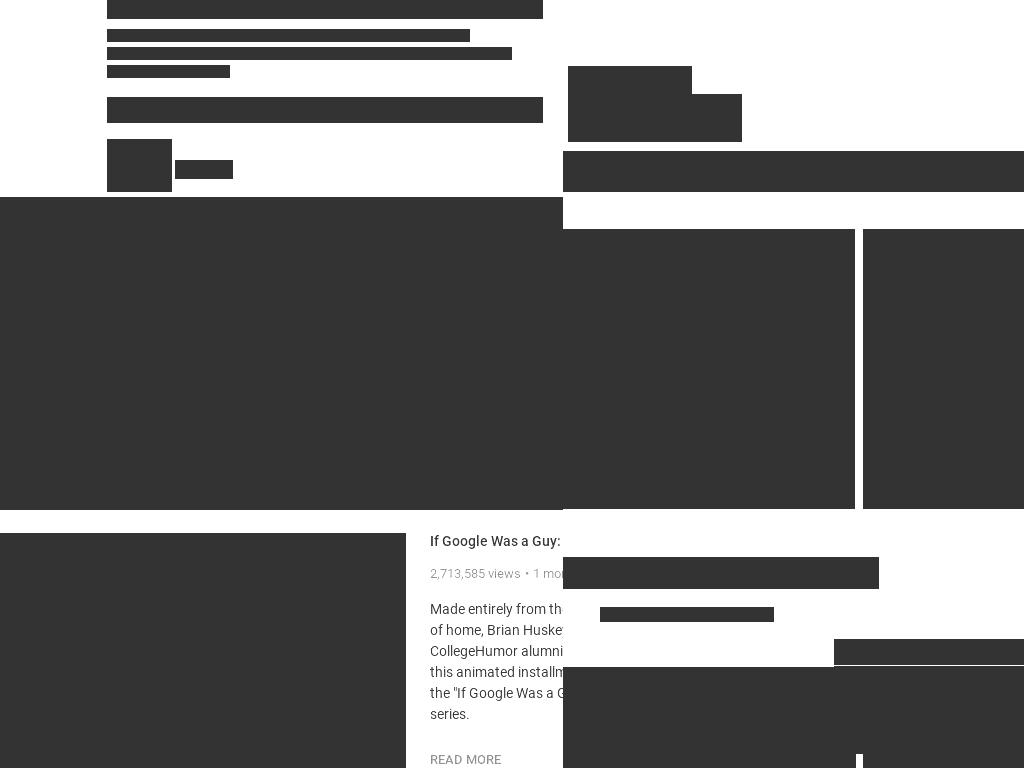button: (563, 151, 1024, 192), (568, 94, 742, 142), (160, 628, 228, 676), (600, 607, 774, 622), (501, 438, 563, 477), (430, 533, 563, 549), (346, 533, 394, 575), (310, 533, 346, 575), (430, 749, 502, 768), (0, 735, 40, 768), (40, 735, 76, 768), (286, 735, 322, 768), (322, 735, 358, 768), (358, 735, 394, 768)
heading: (563, 359, 832, 403), (107, 97, 543, 123), (886, 359, 1024, 425), (107, 0, 543, 19), (568, 66, 692, 94), (107, 139, 172, 192), (175, 160, 233, 179)
image: (0, 197, 563, 510), (0, 533, 406, 768), (563, 229, 855, 509), (563, 229, 855, 397), (863, 229, 1024, 509), (0, 674, 406, 768), (563, 667, 856, 768), (563, 667, 855, 768), (863, 229, 1024, 397), (0, 533, 406, 581), (863, 667, 1024, 768), (41, 377, 121, 458), (160, 628, 228, 676), (0, 732, 394, 737), (0, 735, 40, 768), (310, 539, 346, 575), (352, 539, 388, 575), (40, 735, 76, 768), (286, 735, 322, 768), (322, 735, 358, 768), (358, 735, 394, 768), (774, 467, 793, 495), (813, 467, 832, 495), (722, 108, 742, 129), (909, 168, 927, 186), (308, 399, 324, 416), (573, 169, 589, 185), (0, 733, 7, 747)
link: (0, 546, 311, 567), (107, 65, 227, 78), (107, 29, 218, 42), (517, 448, 562, 467), (305, 47, 364, 60)
text: (430, 601, 563, 768), (834, 666, 1024, 754), (563, 557, 879, 589), (563, 413, 807, 449), (297, 391, 525, 425), (609, 168, 907, 186), (834, 639, 1024, 665), (145, 391, 299, 420), (433, 461, 518, 509), (295, 461, 367, 509), (563, 472, 752, 490), (217, 29, 470, 42), (107, 47, 306, 60), (568, 109, 718, 126), (886, 472, 1024, 490), (180, 461, 229, 509), (886, 435, 1024, 451), (73, 461, 114, 509), (145, 424, 260, 441), (363, 47, 512, 60), (430, 565, 533, 583), (297, 366, 378, 383), (533, 565, 563, 583), (81, 745, 105, 760), (116, 745, 140, 760), (105, 745, 116, 760), (226, 65, 230, 78)
